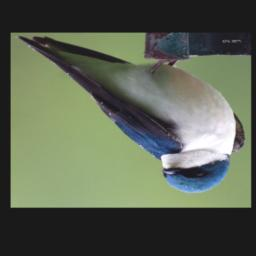Swallow: (17, 34, 246, 194)
